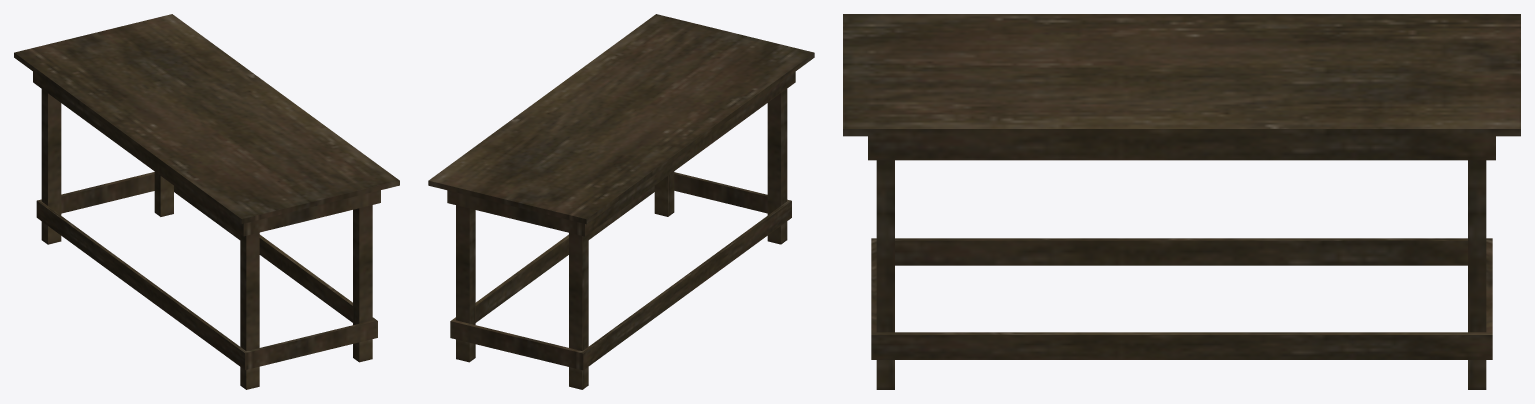
File: Table_ShootingRange.fbx
3 renders of one model, left to right at view 1: azimuth 30°, elevation 25°; view 2: azimuth 150°, elevation 25°; view 3: azimuth 270°, elevation 25°, orthographic. The views are drawn at different scales.
Visible parts, largest first — view 1: Box06, Box239, Box238, Box236; view 2: Box06, Box239, Box238, Box236; view 3: Box06, Box239, Box236, Box238.
Boxes of the visible parts, x1,y1,x2,y2 form: Box06: [14, 14, 399, 223]; Box239: [36, 172, 377, 369]; Box238: [41, 89, 372, 389]; Box236: [33, 71, 380, 236]; Box06: [428, 14, 814, 224]; Box239: [450, 172, 791, 370]; Box238: [456, 89, 787, 389]; Box236: [447, 71, 795, 236]; Box06: [843, 14, 1520, 136]; Box239: [871, 238, 1492, 359]; Box236: [868, 136, 1495, 160]; Box238: [876, 160, 1486, 389].
Size of the model in its own units: 72.4 by 80 by 180.
